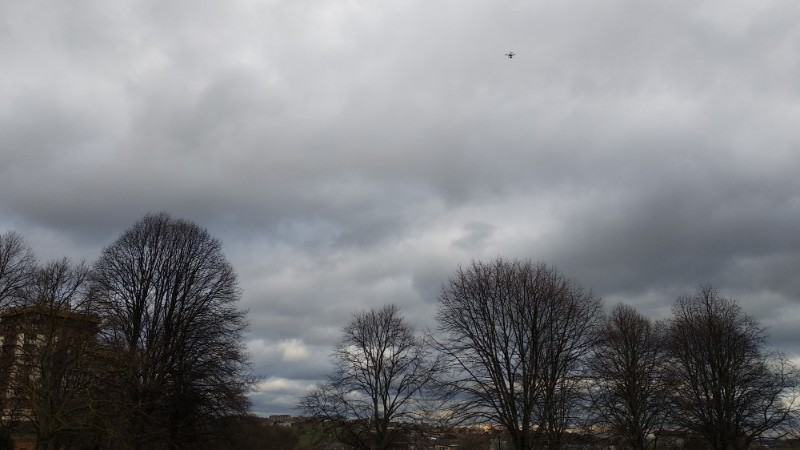drone: (506, 51, 516, 58)
